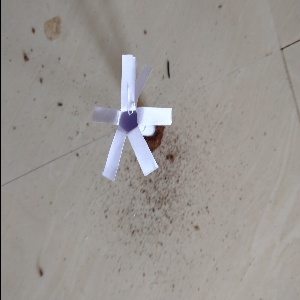weed: (94, 55, 166, 183)
